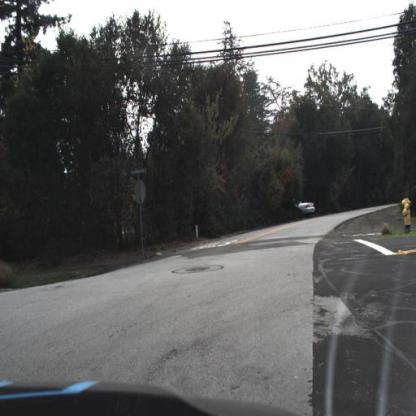car: (290, 189, 319, 220), (299, 197, 317, 215)
